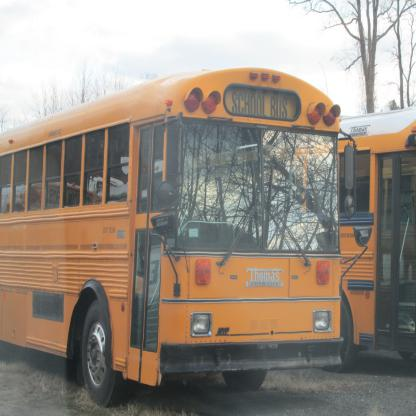Bus: (0, 62, 373, 410), (264, 104, 416, 374)
